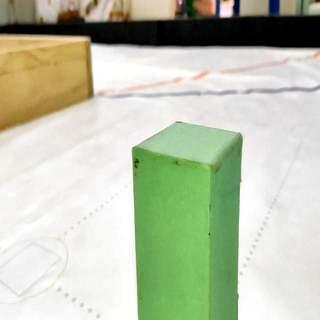greenbox: (130, 119, 244, 320)
